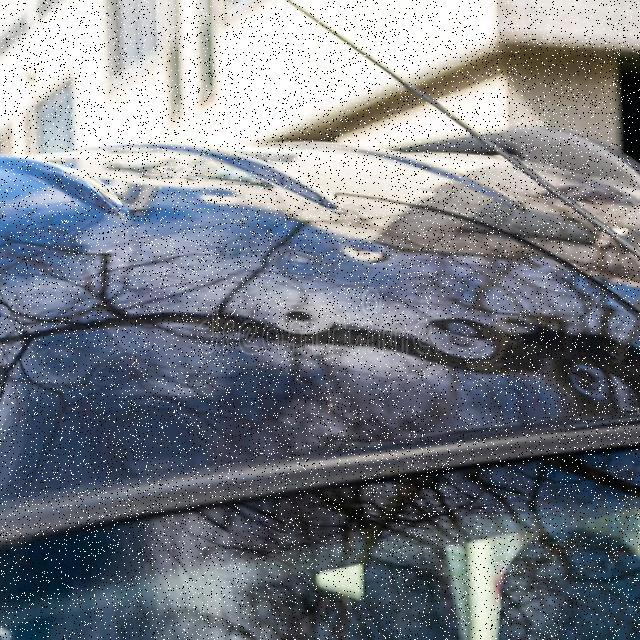roof-dent: (3, 153, 638, 546)
